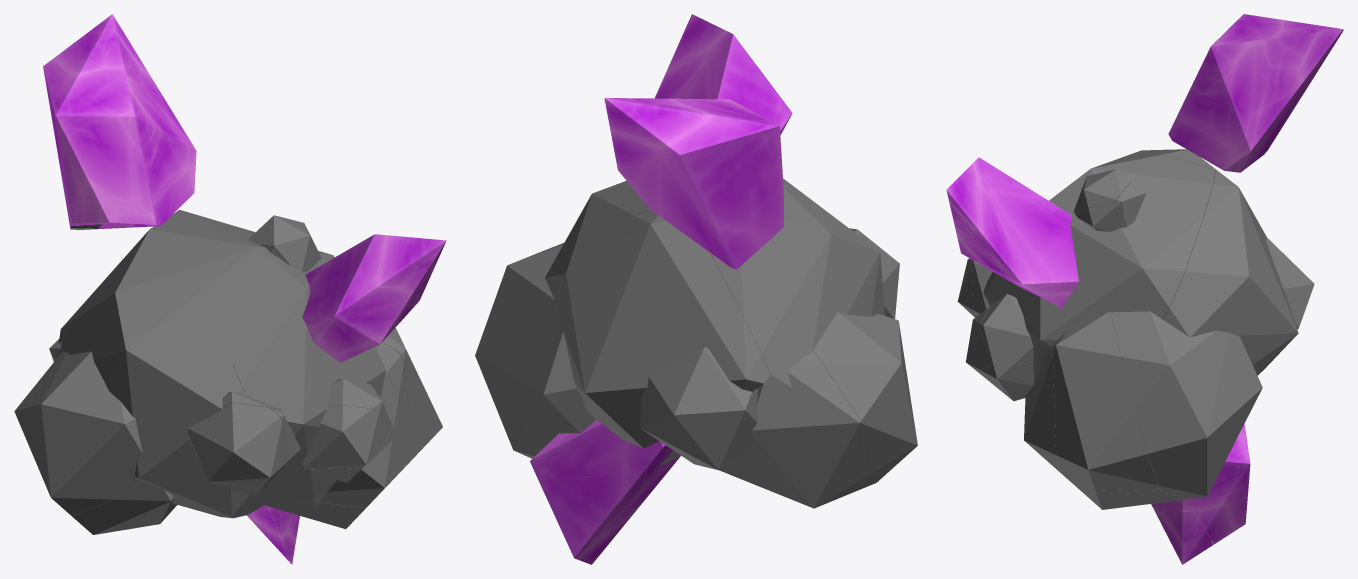
The model's file is CursedOre.fbx.
The picture shows the model from 3 angles, left to right: view 1: azimuth 30°, elevation 25°; view 2: azimuth 150°, elevation 25°; view 3: azimuth 270°, elevation 25°; orthographic projection. The views are drawn at different scales.
Parts seen in each view (by area): view 1: StoneOre.026_cell.018, CursedParticle.023_cell.005, StoneOre.026_cell.020, StoneOre.025_cell.027, CursedParticle.023_cell.002, StoneOre.029_cell.027, StoneOre.024_cell.037, StoneOre.028_cell.024, StoneOre.025_cell.024, StoneOre.024_cell.036, StoneOre.030_cell.024, StoneOre.024_cell.038 (+5 smaller); view 2: StoneOre.026_cell.019, CursedParticle.023_cell.005, StoneOre.026_cell.018, StoneOre.024_cell.039, StoneOre.025_cell.026, StoneOre.025_cell.027, CursedParticle.023_cell.002, CursedParticle.023_cell.006, CursedParticle.023_cell.001, StoneOre.027_cell.026, StoneOre.030, StoneOre.026_cell.020 (+4 smaller); view 3: StoneOre.026_cell.020, StoneOre.024_cell.039, CursedParticle.023_cell.005, StoneOre.026_cell.019, StoneOre.024_cell.036, CursedParticle.023_cell.002, StoneOre.024_cell.037, StoneOre.028_cell.026, CursedParticle.023_cell.007, CursedParticle.023_cell.006, CursedParticle.023_cell.001, StoneOre.024_cell.038 (+10 smaller).
Part boxes in pixels (left/top/right/bottom): StoneOre.026_cell.018: left=58, top=220, right=269, bottom=518; CursedParticle.023_cell.005: left=43, top=14, right=196, bottom=229; StoneOre.026_cell.020: left=167, top=216, right=385, bottom=502; StoneOre.025_cell.027: left=15, top=351, right=142, bottom=516; CursedParticle.023_cell.002: left=302, top=234, right=446, bottom=362; StoneOre.029_cell.027: left=187, top=403, right=285, bottom=486; StoneOre.024_cell.037: left=233, top=342, right=413, bottom=508; StoneOre.028_cell.024: left=302, top=405, right=393, bottom=468; StoneOre.025_cell.024: left=72, top=482, right=174, bottom=534; StoneOre.024_cell.036: left=382, top=327, right=442, bottom=476; StoneOre.030_cell.024: left=258, top=215, right=315, bottom=271; StoneOre.024_cell.038: left=265, top=482, right=390, bottom=529; StoneOre.026_cell.019: left=545, top=211, right=770, bottom=448; CursedParticle.023_cell.005: left=604, top=98, right=783, bottom=269; StoneOre.026_cell.018: left=710, top=183, right=884, bottom=387; StoneOre.024_cell.039: left=475, top=243, right=595, bottom=458; StoneOre.025_cell.026: left=719, top=350, right=865, bottom=508; StoneOre.025_cell.027: left=813, top=312, right=917, bottom=478; CursedParticle.023_cell.002: left=651, top=14, right=792, bottom=211; CursedParticle.023_cell.006: left=530, top=420, right=680, bottom=493; CursedParticle.023_cell.001: left=541, top=466, right=647, bottom=561; StoneOre.027_cell.026: left=672, top=412, right=757, bottom=470; StoneOre.030: left=649, top=347, right=757, bottom=463; StoneOre.026_cell.020: left=565, top=178, right=792, bottom=241; StoneOre.026_cell.020: left=983, top=154, right=1215, bottom=382; StoneOre.024_cell.039: left=1111, top=311, right=1262, bottom=498; CursedParticle.023_cell.005: left=1168, top=14, right=1343, bottom=172; StoneOre.026_cell.019: left=1163, top=169, right=1298, bottom=375; StoneOre.024_cell.036: left=1053, top=312, right=1159, bottom=491; CursedParticle.023_cell.002: left=946, top=157, right=1078, bottom=308; StoneOre.024_cell.037: left=1024, top=323, right=1083, bottom=476; StoneOre.028_cell.026: left=980, top=294, right=1033, bottom=364; CursedParticle.023_cell.007: left=1151, top=501, right=1213, bottom=564; CursedParticle.023_cell.006: left=1170, top=424, right=1250, bottom=511; CursedParticle.023_cell.001: left=1193, top=479, right=1249, bottom=544; StoneOre.024_cell.038: left=1063, top=475, right=1194, bottom=509.
Bounding box in the file's own units: 275 × 362 × 265.
